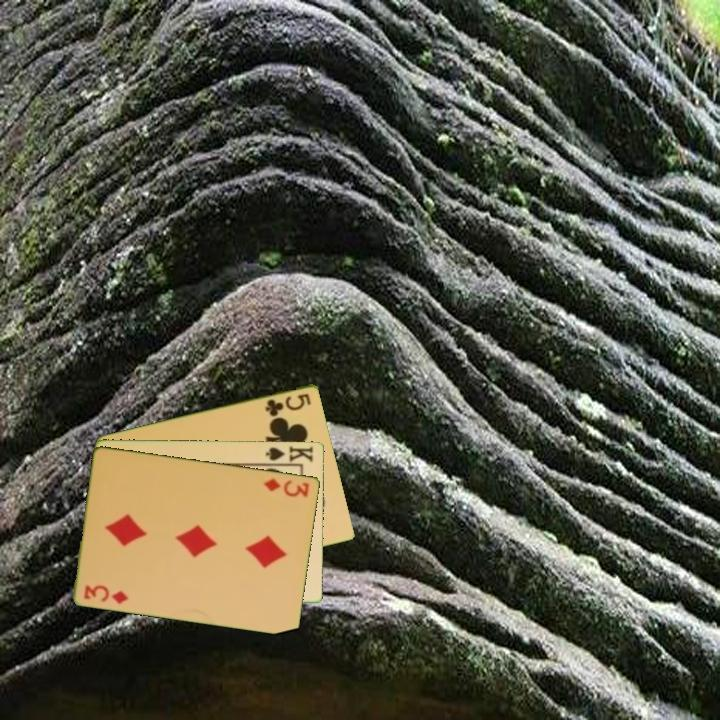3d: (260, 474, 312, 500), (80, 581, 132, 607)
5c: (262, 389, 314, 419)
Ks: (261, 442, 316, 467)
